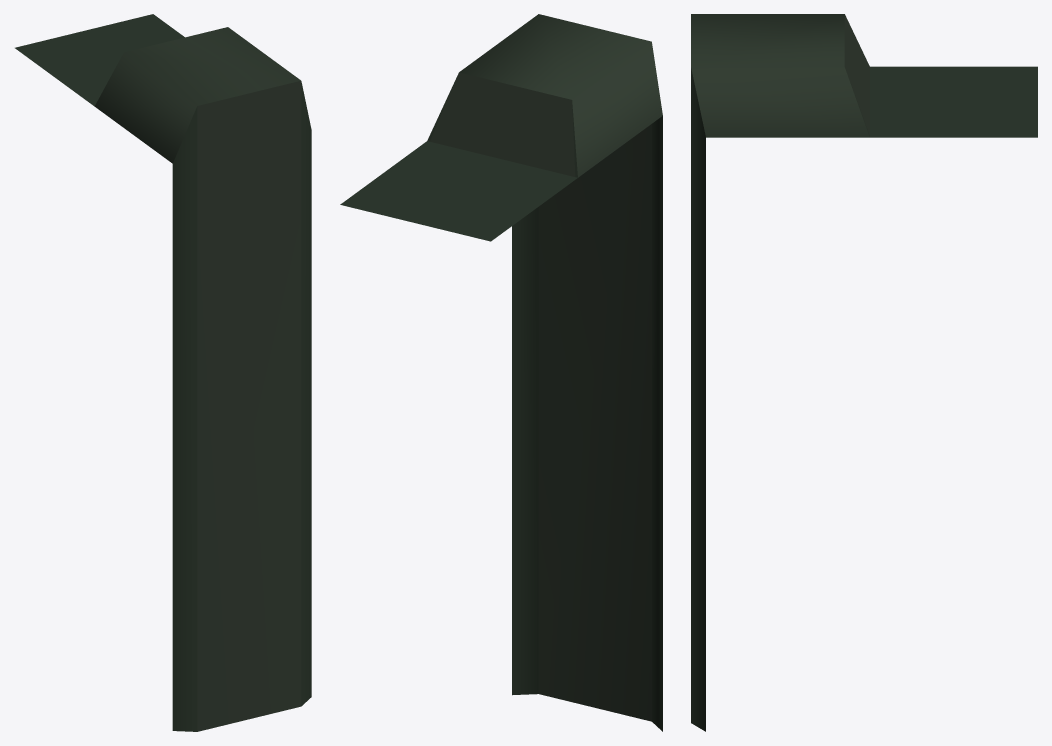
Rendered from SF_Bld_Elven_Blockwall_05.glb.
3 renders of one model, left to right at view 1: azimuth 30°, elevation 25°; view 2: azimuth 150°, elevation 25°; view 3: azimuth 270°, elevation 25°, orthographic. The views are drawn at different scales.
Visible parts, largest first — view 1: SF_Bld_Elven_Blockwall_05; view 2: SF_Bld_Elven_Blockwall_05; view 3: SF_Bld_Elven_Blockwall_05.
Part boxes in pixels (left/top/right/bottom): SF_Bld_Elven_Blockwall_05: left=15, top=14, right=311, bottom=731; SF_Bld_Elven_Blockwall_05: left=340, top=14, right=662, bottom=731; SF_Bld_Elven_Blockwall_05: left=691, top=14, right=1037, bottom=731.
Size of the model in its own units: 0.025 by 0.1077 by 0.0516.
1 material, 1 textured.
